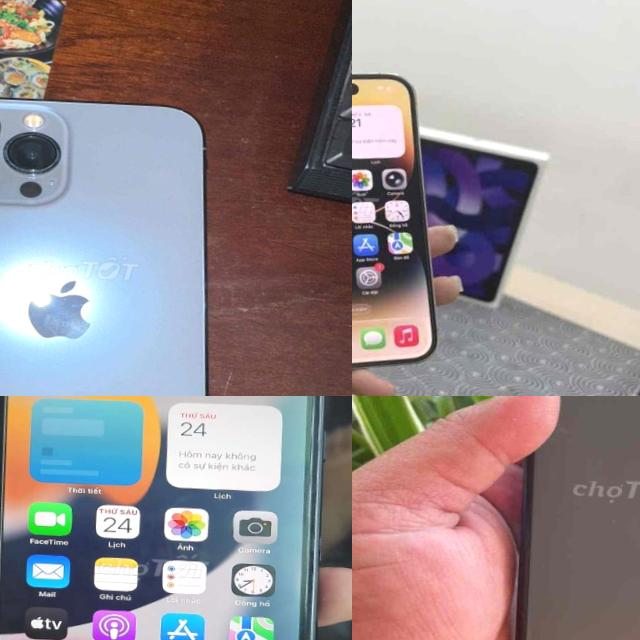gen_11: (516, 396, 640, 640)
gen_12_13: (0, 84, 232, 396)
gen_14: (352, 63, 460, 392)
gen_7_8: (0, 396, 347, 640)
scratch: (306, 470, 328, 608)
